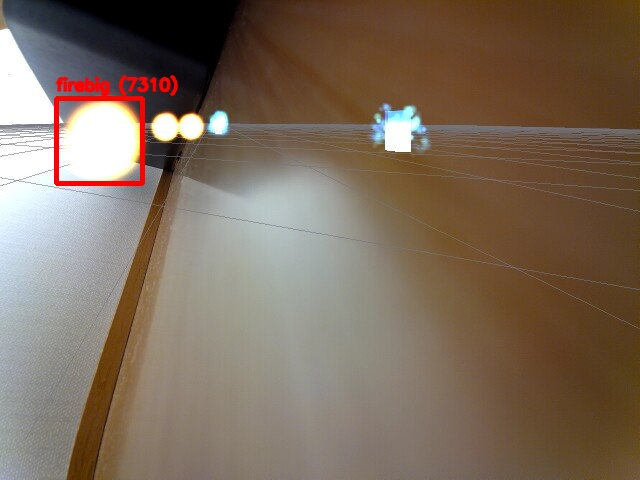firebig: (56, 98, 142, 183)
